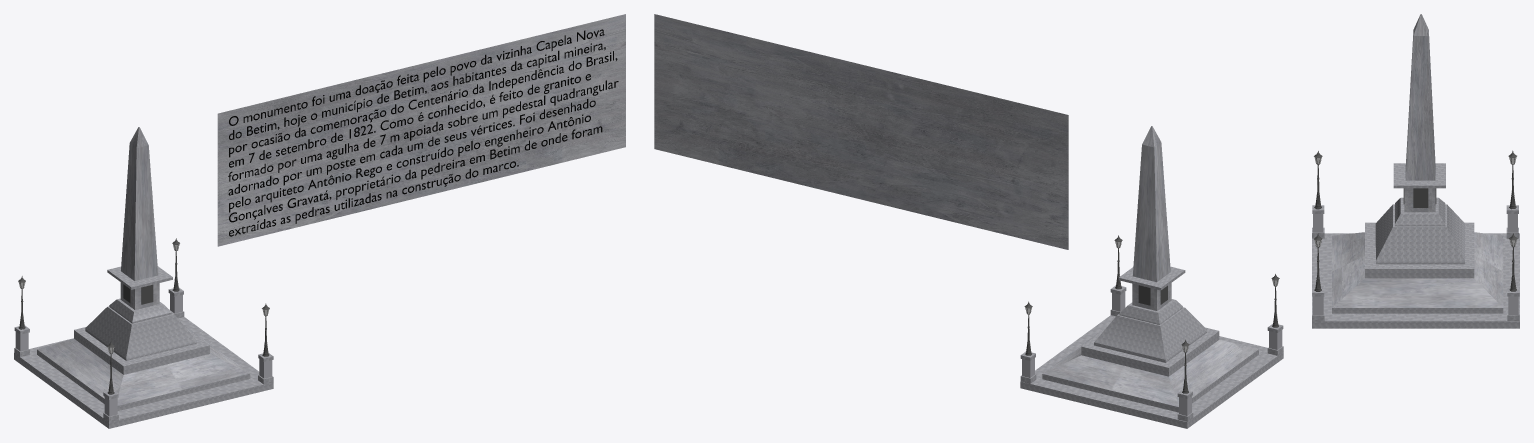
File: praca.glb
3 views of the same model, side by side, from view 1: azimuth 30°, elevation 25°; view 2: azimuth 150°, elevation 25°; view 3: azimuth 270°, elevation 25° (orthographic). The views are drawn at different scales.
Visible parts, largest first — view 1: Plane, Polygon, Text; view 2: Plane, Polygon; view 3: Polygon, Cube.002, Line07_3, Line07_1, Line07.
Boxes of the visible parts, left/top/right/bottom form: Plane: left=217, top=14, right=625, bottom=246; Polygon: left=14, top=127, right=273, bottom=428; Text: left=228, top=29, right=618, bottom=236; Plane: left=654, top=14, right=1068, bottom=249; Polygon: left=1020, top=126, right=1283, bottom=428; Polygon: left=1312, top=14, right=1519, bottom=328; Cube.002: left=1413, top=188, right=1428, bottom=207; Line07_3: left=1509, top=233, right=1517, bottom=291; Line07_1: left=1314, top=151, right=1322, bottom=209; Line07: left=1314, top=233, right=1322, bottom=291.
Size of the model in its own units: 53.93 by 22.29 by 15.6.
4 materials, 1 textured.
